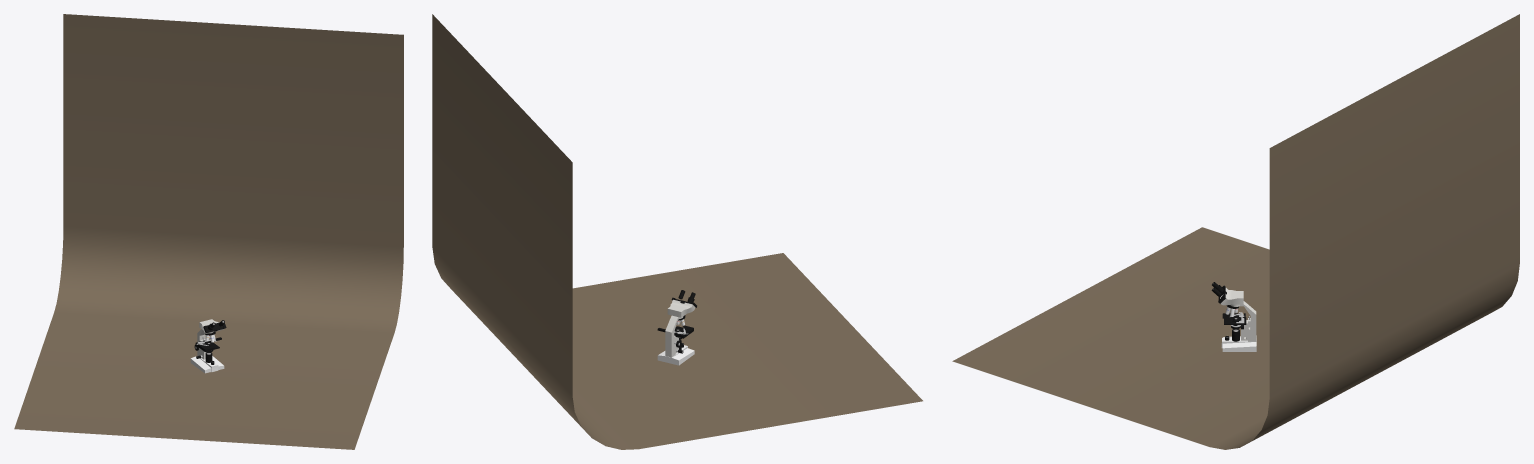
Rendered from microscope.gltf.
The picture shows the model from 3 angles, left to right: view 1: azimuth 30°, elevation 25°; view 2: azimuth 150°, elevation 25°; view 3: azimuth 270°, elevation 25°; orthographic projection. The views are drawn at different scales.
Parts seen in each view (by area): view 1: Plane; view 2: Plane; view 3: Plane.
Part boxes in pixels (bbox=[...]): Plane: bbox=[14, 14, 403, 449]; Plane: bbox=[432, 14, 922, 449]; Plane: bbox=[952, 14, 1519, 449].
Size of the model in its own units: 2.81 by 1.74 by 2.81.
